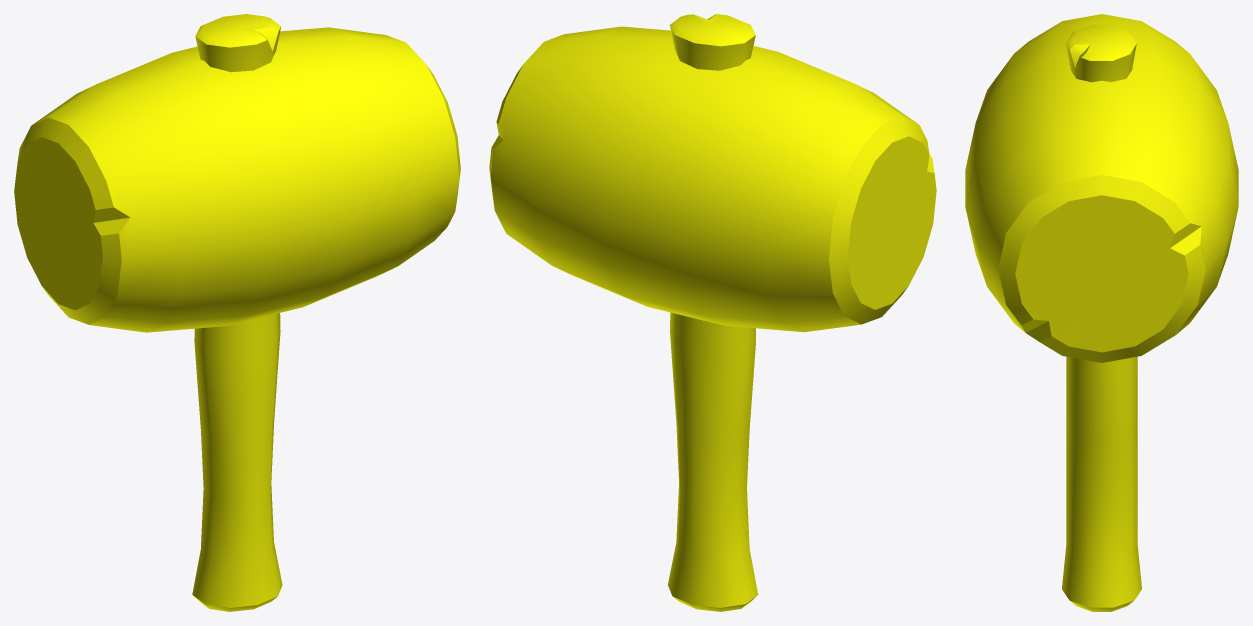
Rendered from kaykit-mallet.glb.
The picture shows the model from 3 angles, left to right: view 1: azimuth 30°, elevation 25°; view 2: azimuth 150°, elevation 25°; view 3: azimuth 270°, elevation 25°; orthographic projection. The views are drawn at different scales.
Visible parts, largest first — view 1: mallet; view 2: mallet; view 3: mallet.
Part boxes in pixels (left/top/right/bottom): mallet: left=14, top=14, right=460, bottom=611; mallet: left=489, top=14, right=936, bottom=611; mallet: left=965, top=14, right=1238, bottom=611.
Size of the model in its own units: 0.6424 by 0.9835 by 0.4349.
